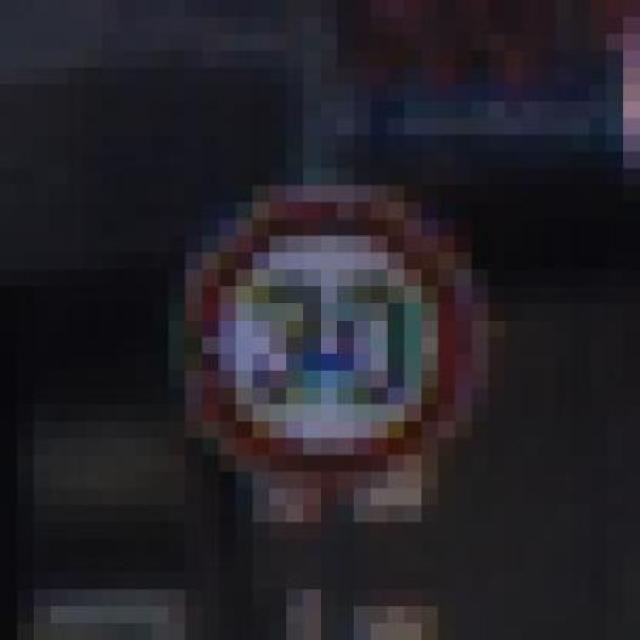Speed Limit 30 KMPh: (152, 152, 522, 506)
